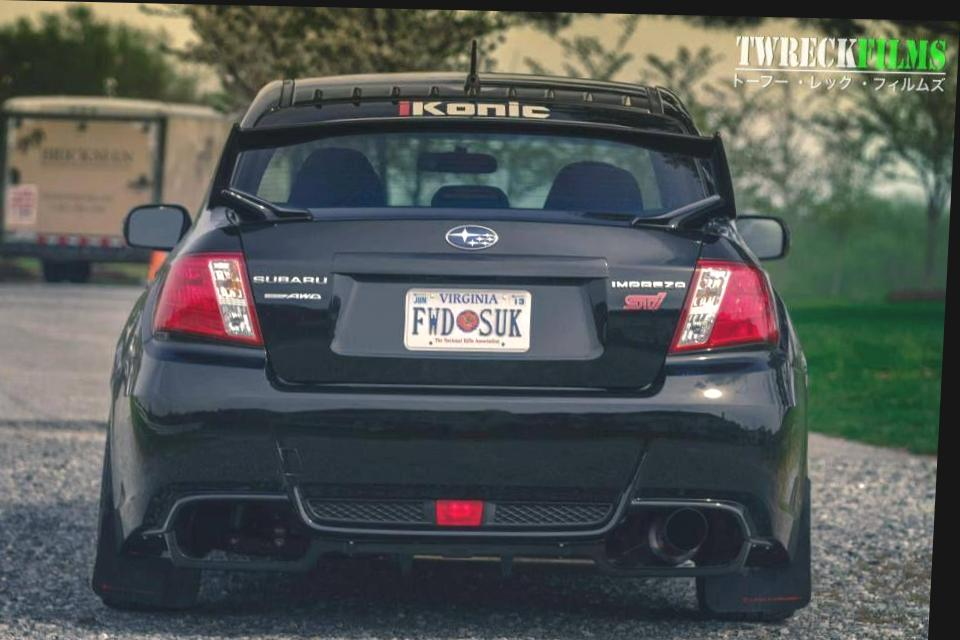License_Plate: (394, 278, 542, 360)
